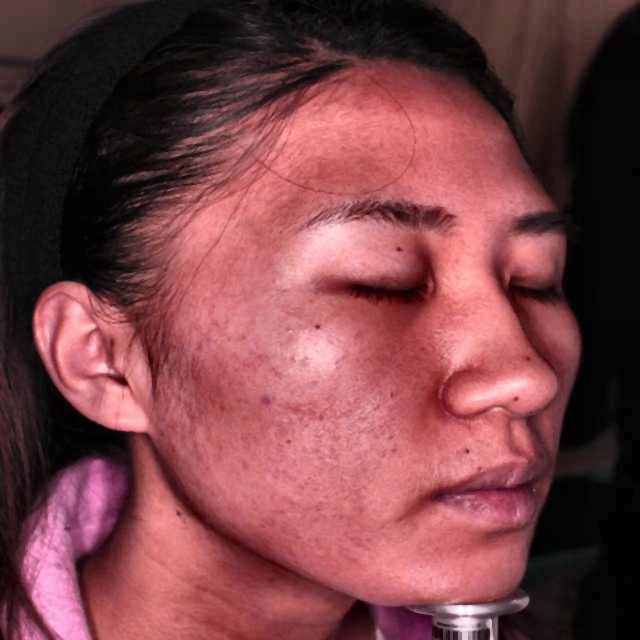comedone: (251, 387, 281, 418)
